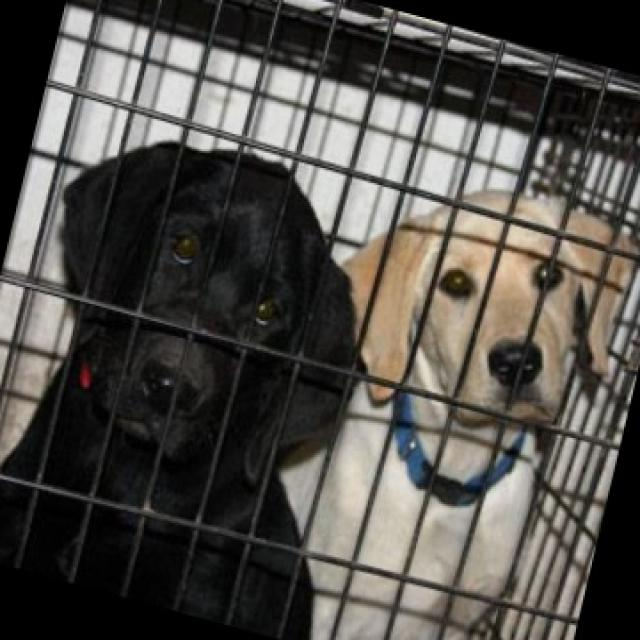sad: (54, 114, 352, 481), (356, 169, 640, 465)
